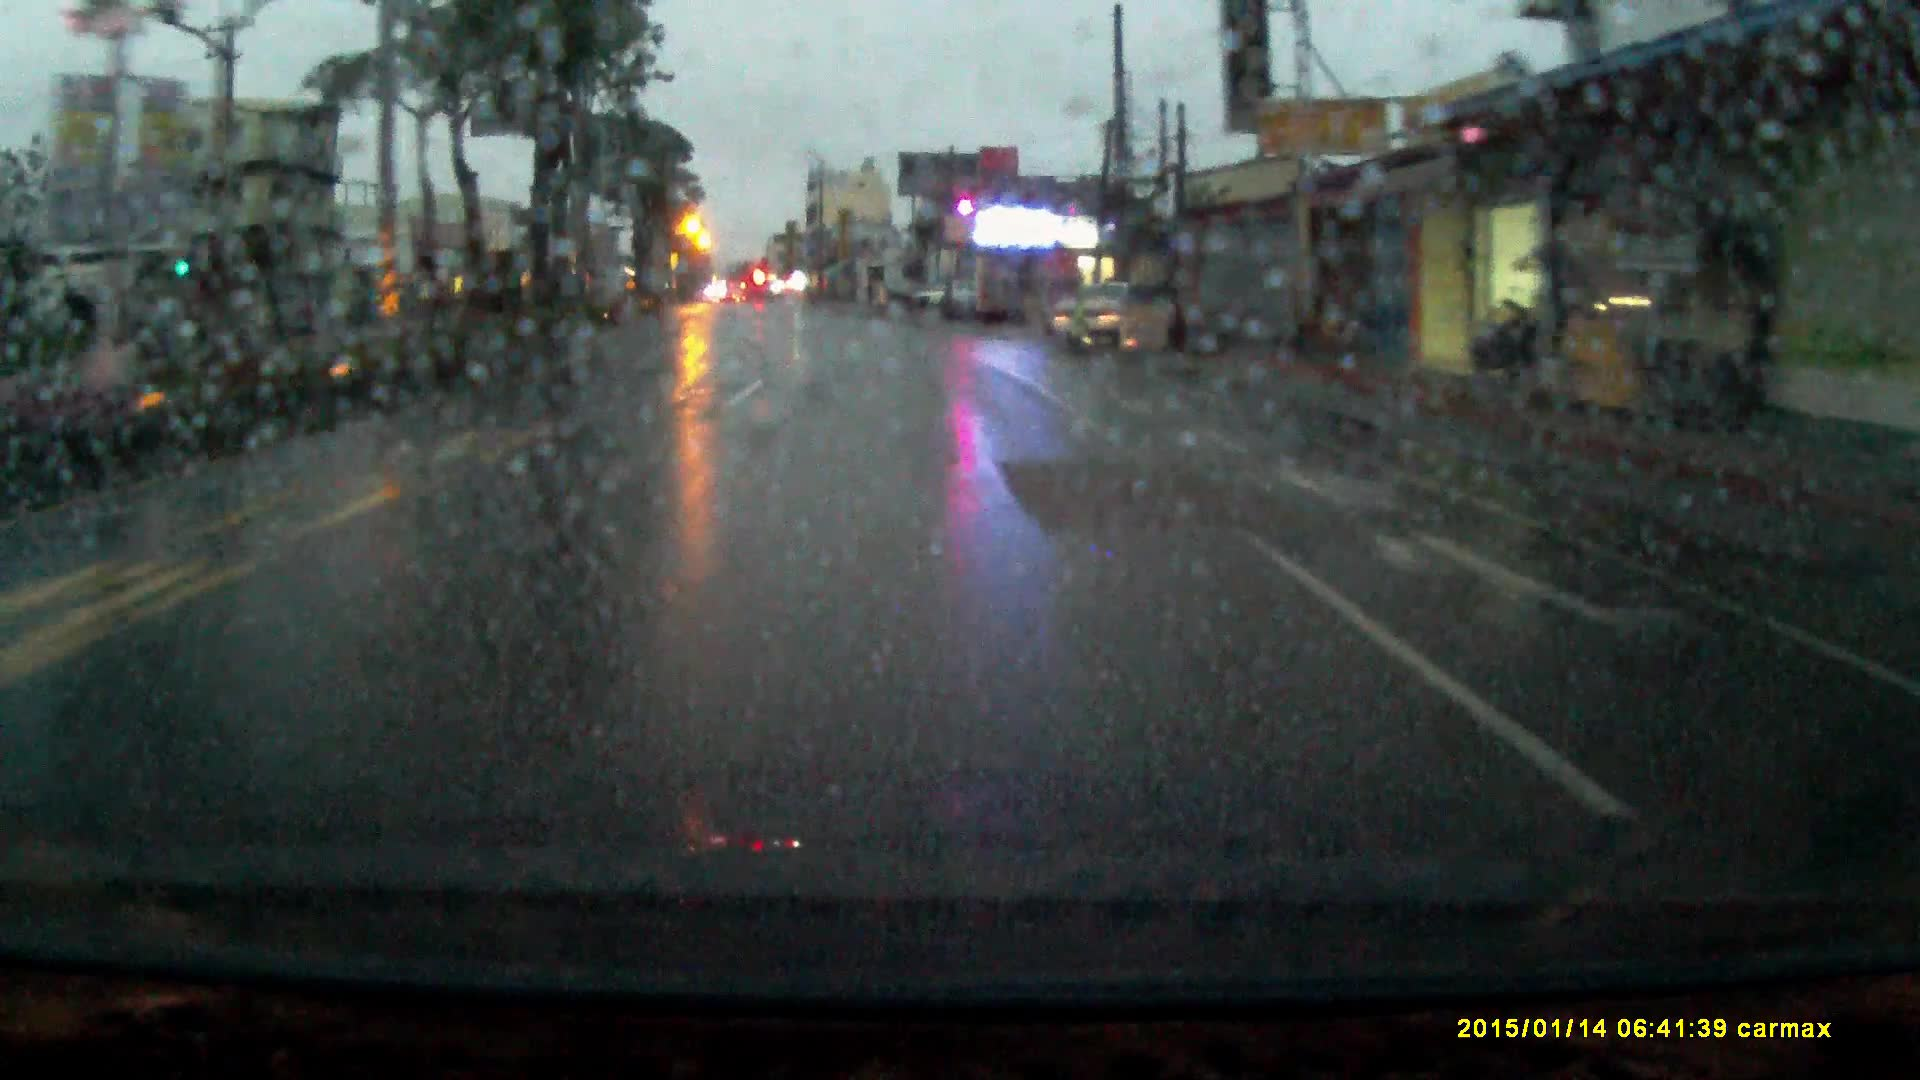vehicle: (1054, 285, 1179, 367), (914, 284, 978, 320)
